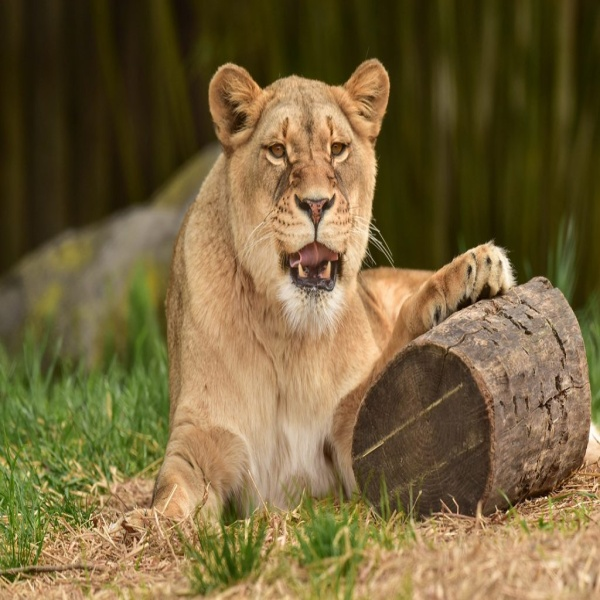Lion: (148, 54, 520, 544)
